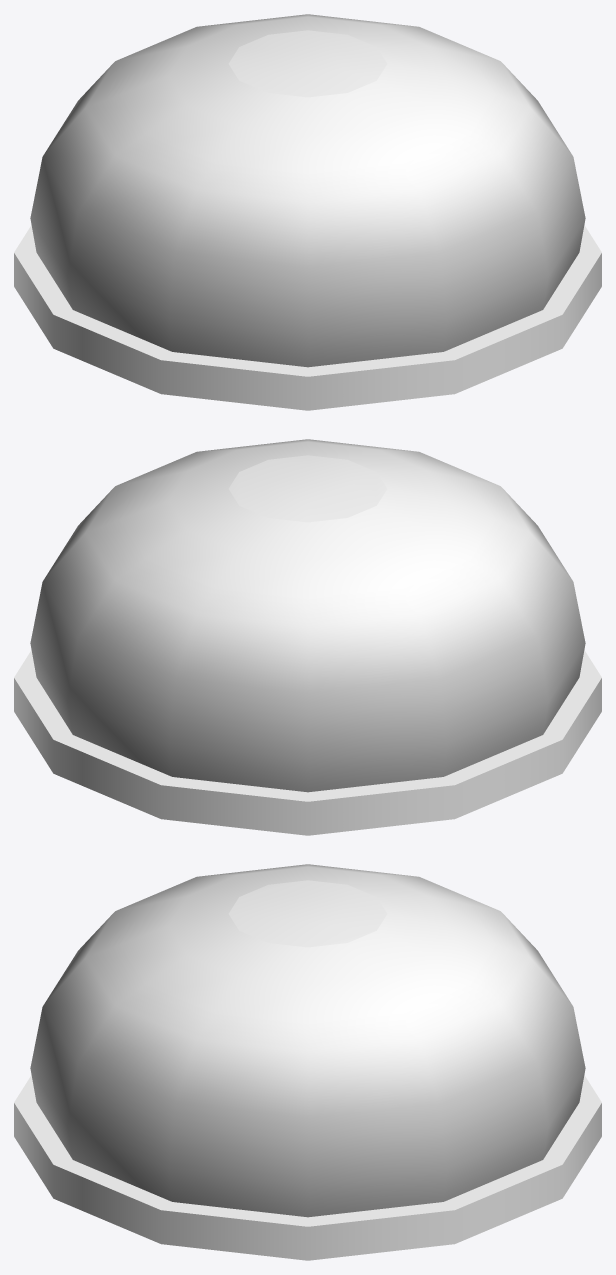
Rendered from pincushion-1.fbx.
3 renders of one model, top to bottom at view 1: azimuth 30°, elevation 25°; view 2: azimuth 150°, elevation 25°; view 3: azimuth 270°, elevation 25°, orthographic.
Visible parts, largest first — view 1: pincushion-1; view 2: pincushion-1; view 3: pincushion-1.
Part boxes in pixels (x1,y1,x2,y2): pincushion-1: (14, 14, 601, 410); pincushion-1: (14, 439, 601, 835); pincushion-1: (14, 864, 601, 1260).
Bounding box in the file's own units: 8.67 × 3.68 × 8.67.
2 materials, 2 textured.
